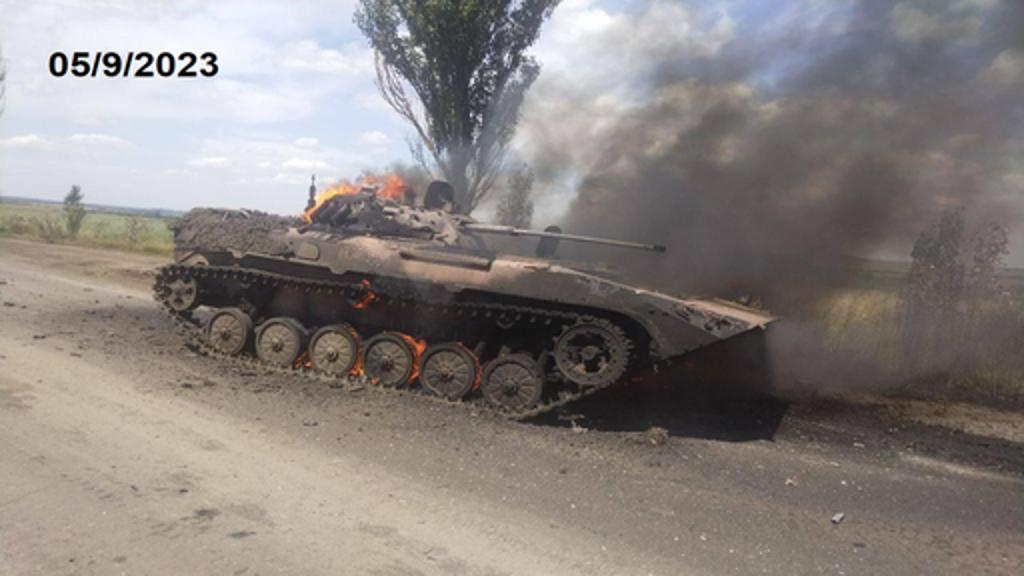APC-IFV: (150, 156, 772, 434)
